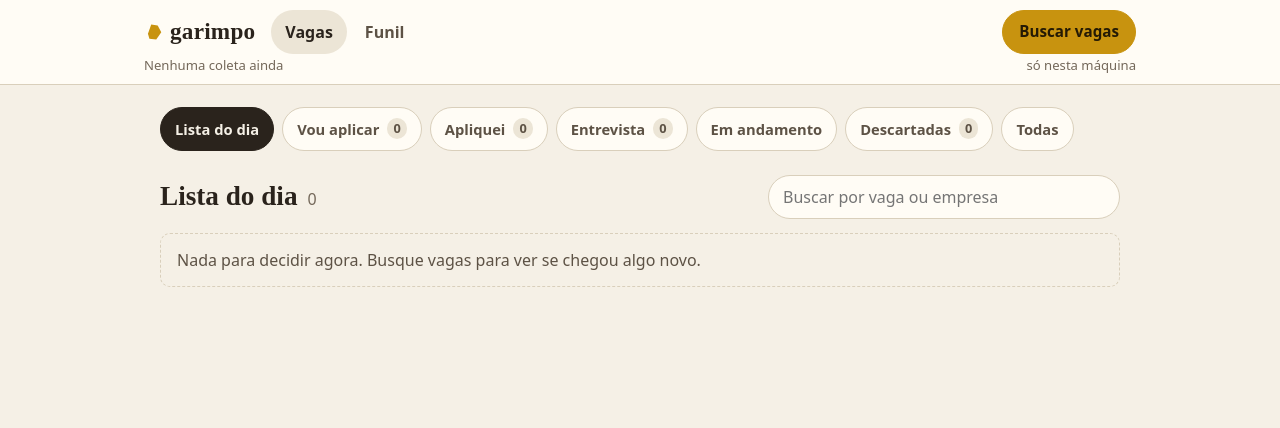
Test case: collecting from the panel › shows why a collection failed
Click the button "Buscar vagas": coordinates (1069, 32) [1002,10,1136,54]
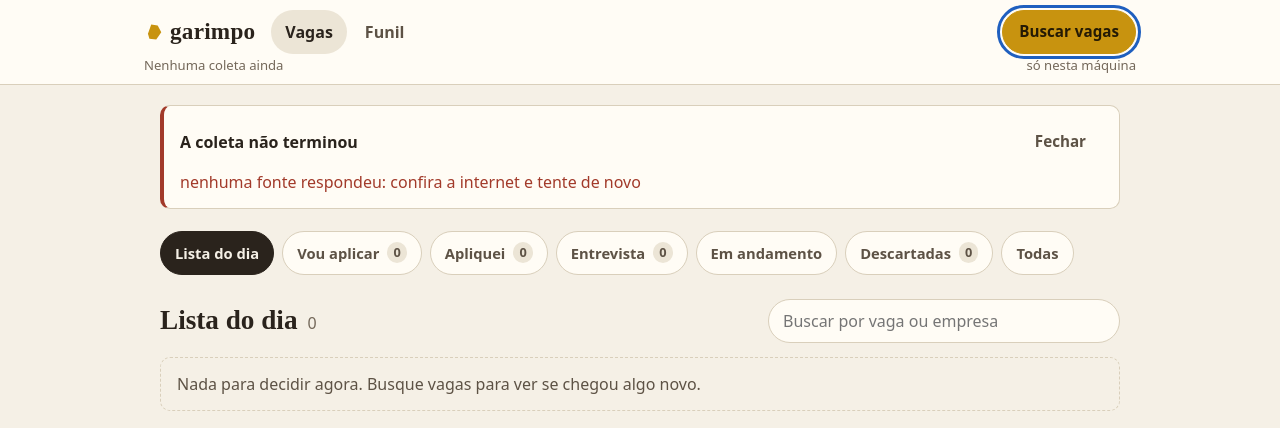
Result: the text "A coleta não terminou" is shown at [180,130,358,154]
Result: the text "nenhuma fonte respondeu: confira a internet e tente de novo" is shown at [180,171,641,193]
